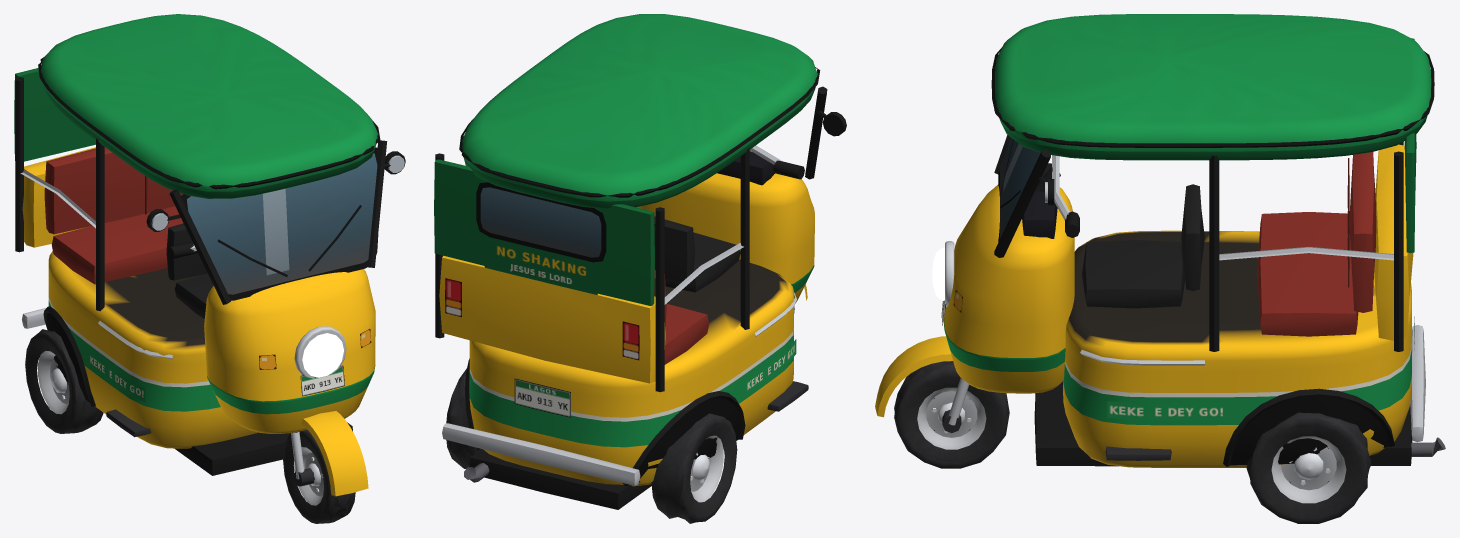
The model's file is veh_keke.glb.
3 renders of one model, left to right at view 1: azimuth 30°, elevation 25°; view 2: azimuth 150°, elevation 25°; view 3: azimuth 270°, elevation 25°, orthographic. The views are drawn at different scales.
Visible parts, largest first — view 1: veh_keke_body, wheel_RR, wheel_F; view 2: veh_keke_body, wheel_RR, wheel_RL; view 3: veh_keke_body, wheel_RL, wheel_F.
Part boxes in pixels (box(x1,y1,x2,y2)): veh_keke_body: box(14, 14, 405, 496); wheel_RR: box(25, 329, 103, 433); wheel_F: box(283, 430, 355, 523); veh_keke_body: box(434, 14, 846, 509); wheel_RR: box(651, 413, 737, 523); wheel_RL: box(446, 368, 481, 468); veh_keke_body: box(875, 14, 1445, 467); wheel_RL: box(1246, 412, 1371, 523); wheel_F: box(894, 361, 1009, 468).
Bounding box in the file's own units: 0.6659 × 0.879 × 1.12.
Materials: 8 (2 with a texture image).
